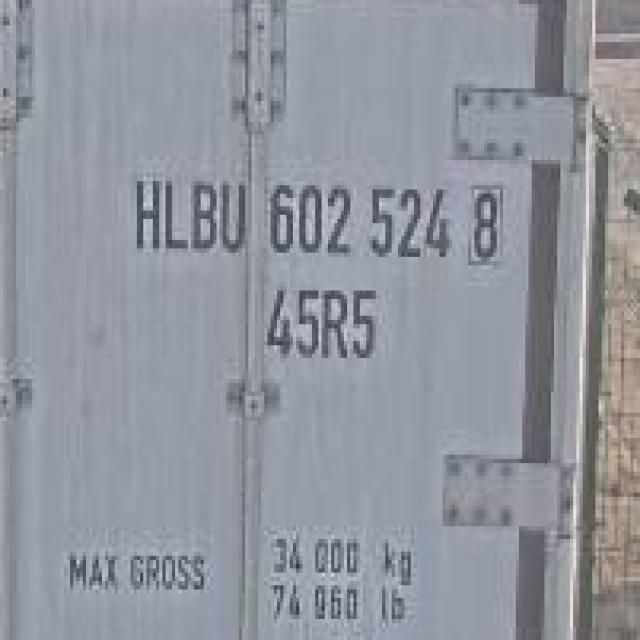dv: (459, 166, 514, 268)
owner: (121, 163, 252, 268)
serial: (265, 162, 451, 266)
size: (258, 275, 385, 361)
